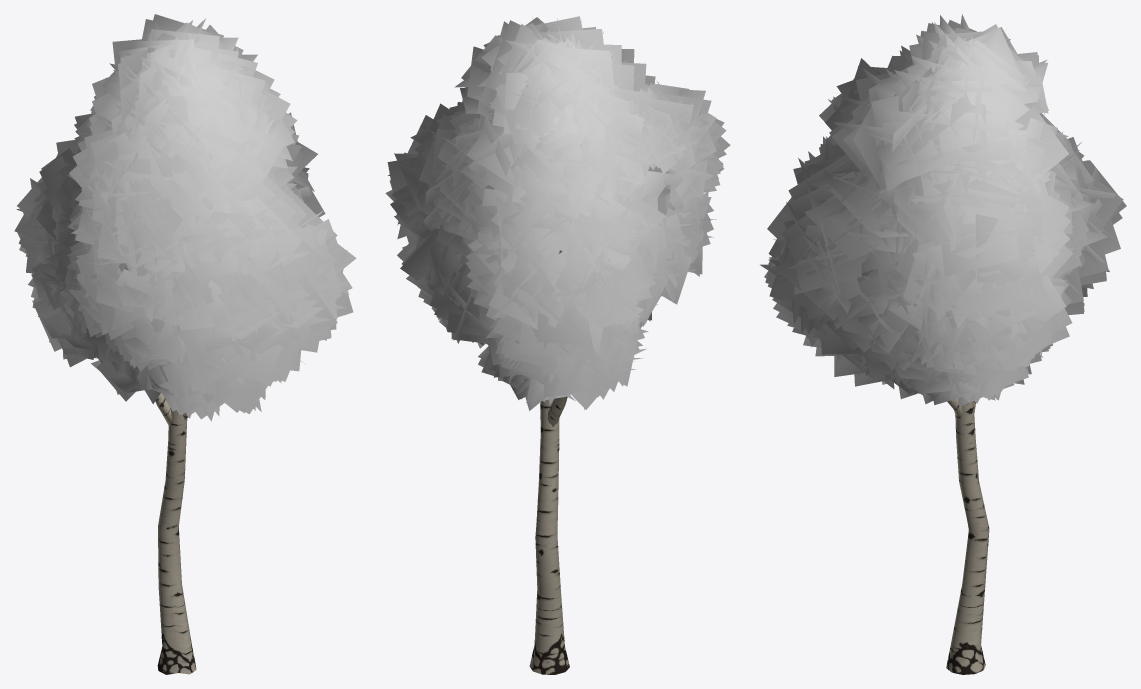
The model's file is SM_RPGTree_01.fbx.
3 views of the same model, side by side, from view 1: azimuth 30°, elevation 25°; view 2: azimuth 150°, elevation 25°; view 3: azimuth 270°, elevation 25° (orthographic).
Visible parts, largest first — view 1: RPGT_Tree_01_LOD0; view 2: RPGT_Tree_01_LOD0; view 3: RPGT_Tree_01_LOD0.
Boxes of the visible parts, box(x1,y1,x2,y2) form: RPGT_Tree_01_LOD0: box(14, 14, 356, 674); RPGT_Tree_01_LOD0: box(385, 16, 730, 674); RPGT_Tree_01_LOD0: box(760, 14, 1126, 674).
Size of what is drawn, in the model's own units: 54.69 by 122 by 63.7.
